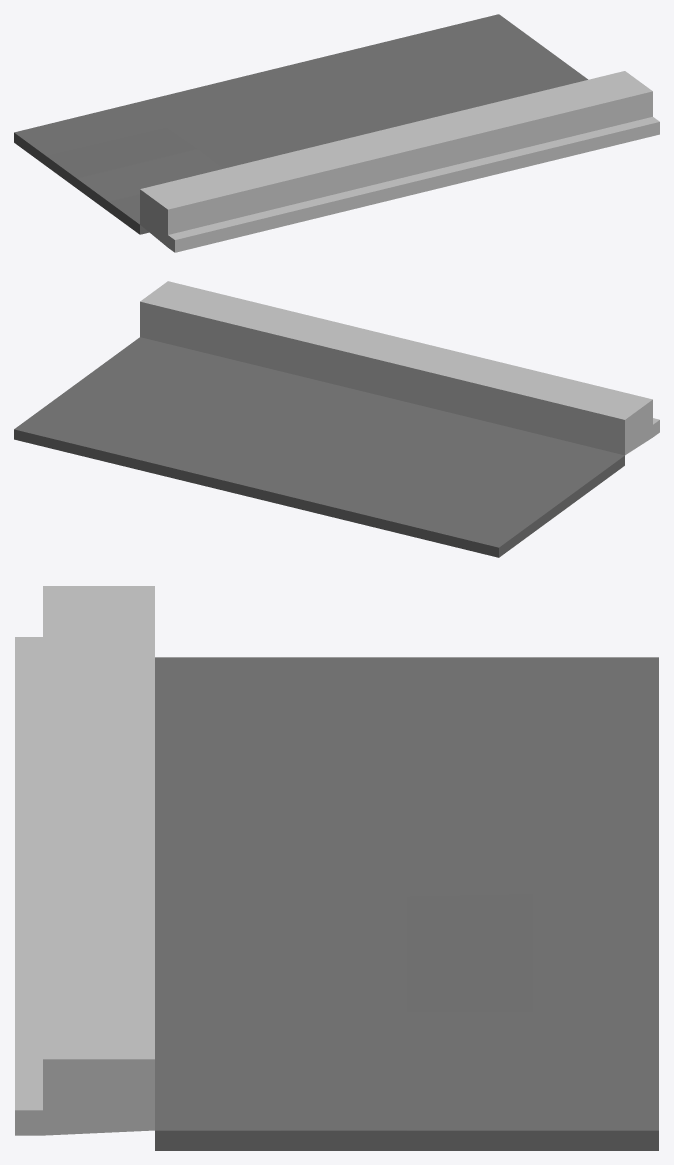
File: RoofFlat.fbx
The picture shows the model from 3 angles, top to bottom: view 1: azimuth 30°, elevation 25°; view 2: azimuth 150°, elevation 25°; view 3: azimuth 270°, elevation 25°; orthographic projection. The views are drawn at different scales.
Parts seen in each view (by area): view 1: RoofFlat; view 2: RoofFlat; view 3: RoofFlat.
Part boxes in pixels (left/top/right/bottom): RoofFlat: left=14, top=14, right=659, bottom=252; RoofFlat: left=14, top=281, right=659, bottom=557; RoofFlat: left=15, top=586, right=658, bottom=1150.
Size of the model in its own units: 200 by 18 by 115.
